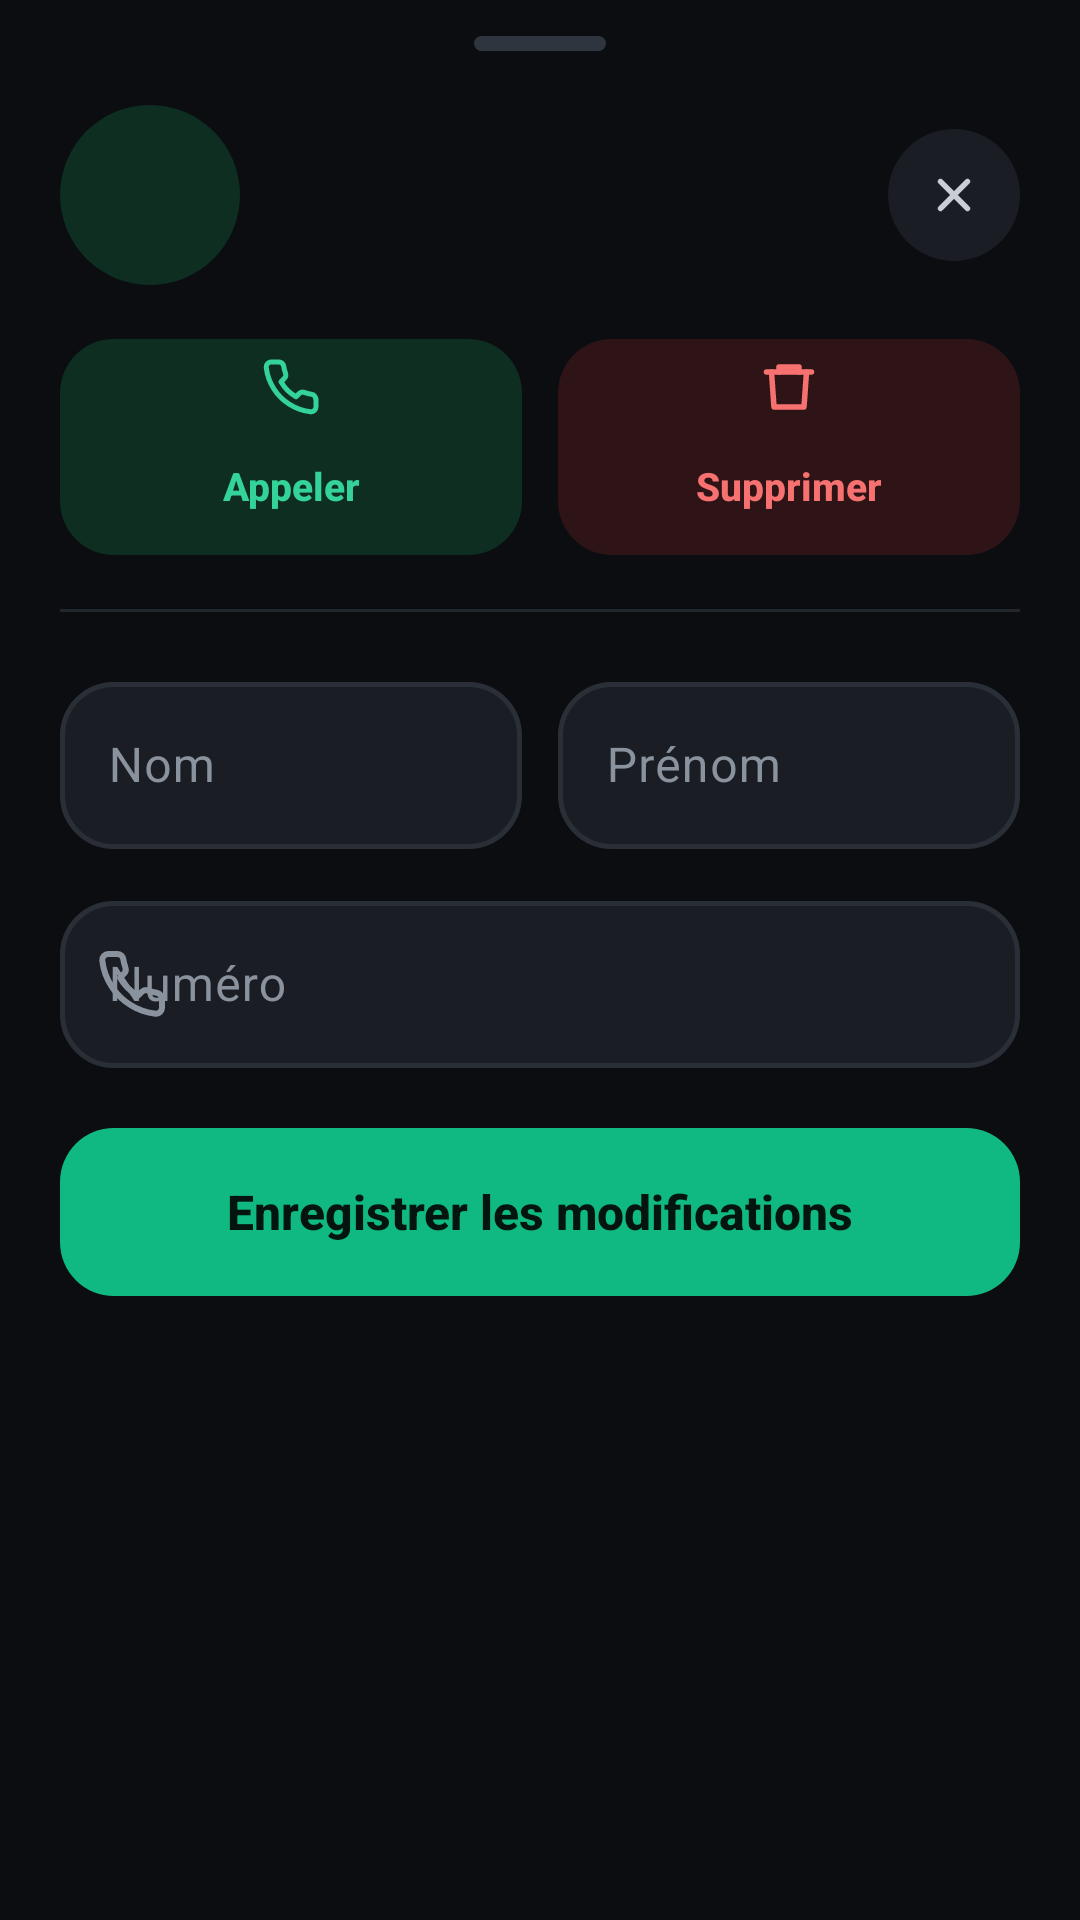

Screen size 1080*1920. Icon name, then its box in pixels as (x1, y1, x2, y2):
Fermer: (888, 129, 1020, 261)
